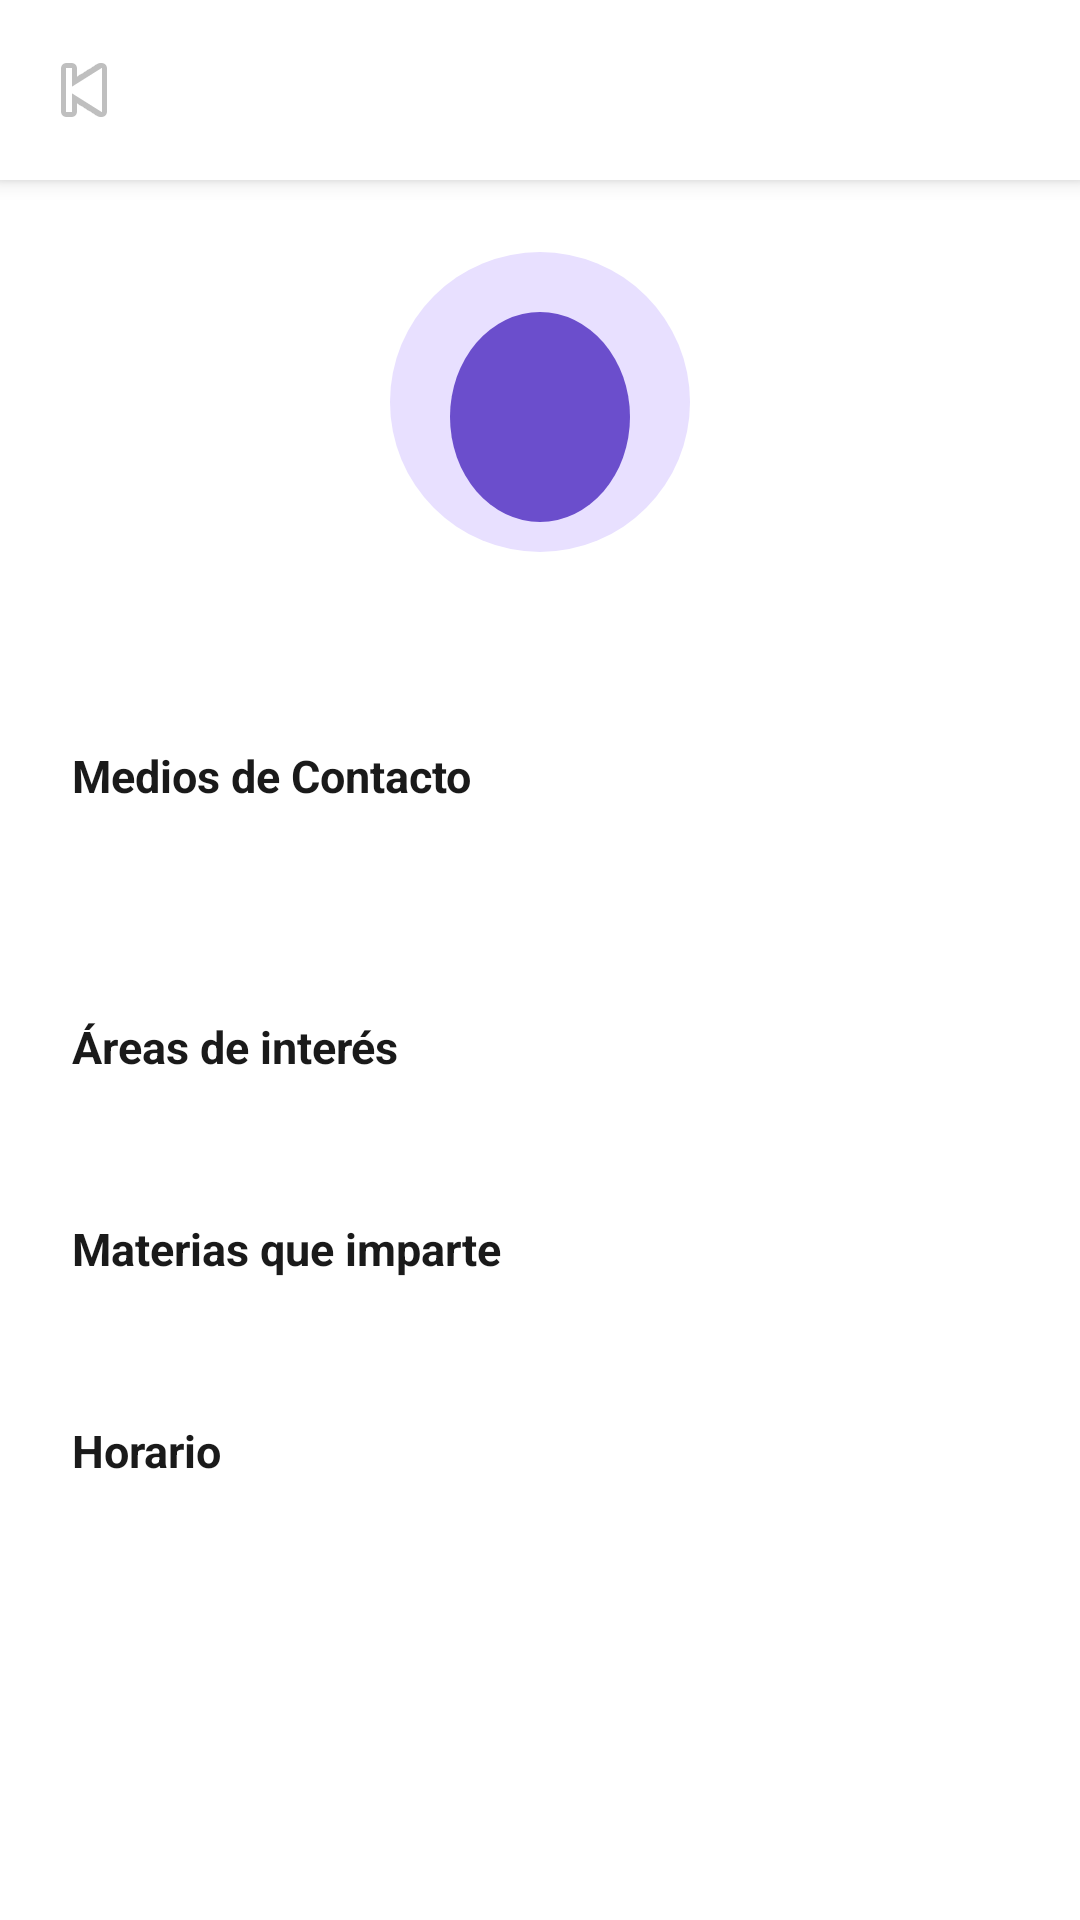

Where icons sit on this 1080x1920 app screen, as [left=x1, top=y1, right=x2, bottom=y2]:
previous: [left=61, top=63, right=107, bottom=117]
